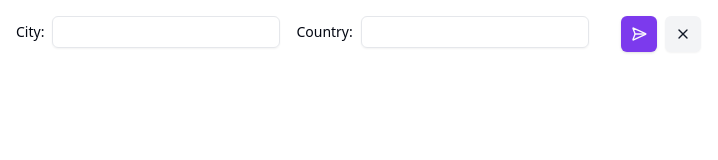
GetWeatherForm › clears form when clear button is clicked
The image size is (718, 160).
Type "London" into the field labelled "City:" at x=166, y=32, box [52,16,280,48]
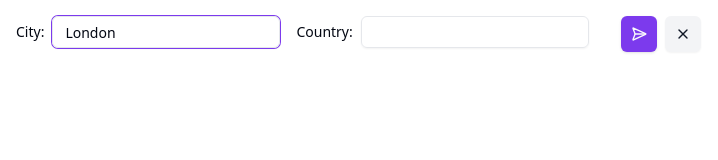
Type "GB" into the field labelled "Country:" at x=475, y=32, box [361,16,589,48]
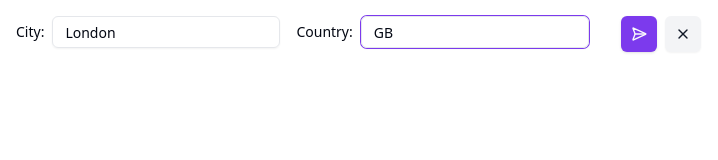
# Click clear button
Click the button named "clear" at x=683, y=34, box [665,16,701,52]
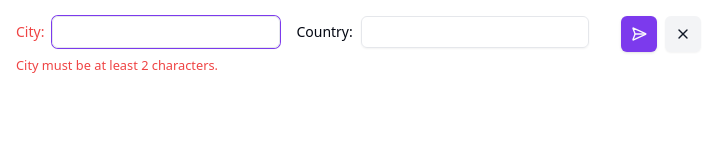
Expected: the field labelled "City:" is empty, [52,16,280,48]
Expected: the field labelled "Country:" is empty, [361,16,589,48]
